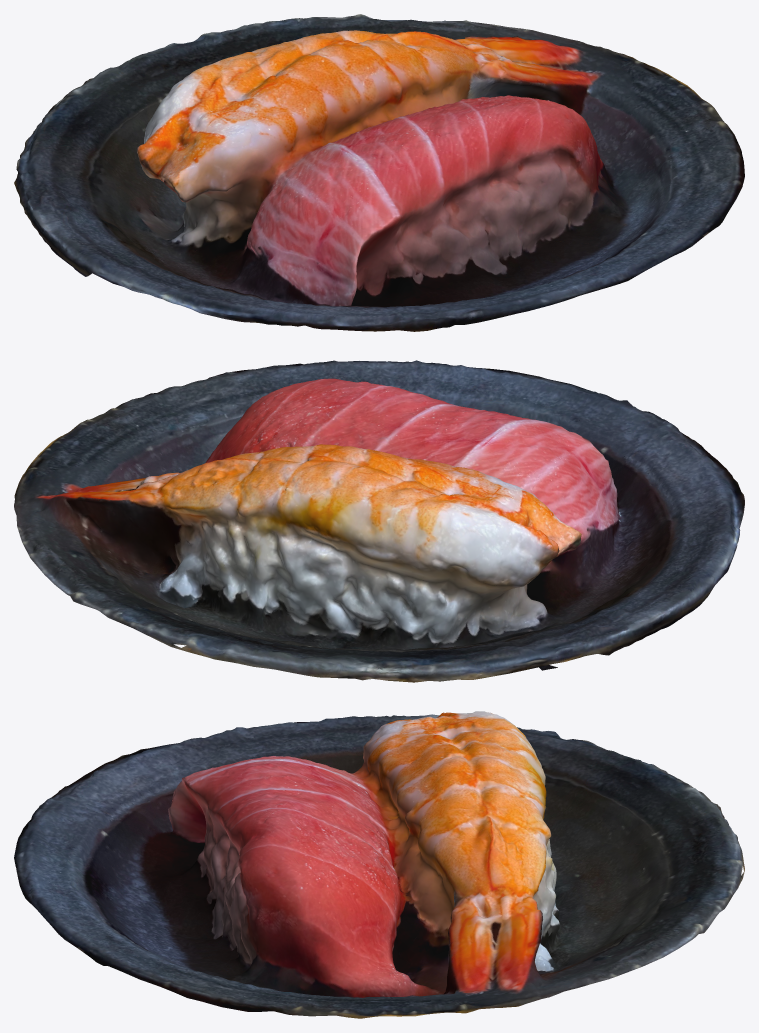
File: sushi.glb
3 renders of one model, top to bottom at view 1: azimuth 30°, elevation 25°; view 2: azimuth 150°, elevation 25°; view 3: azimuth 270°, elevation 25°, orthographic.
Parts seen in each view (by area): view 1: FoodAR; view 2: FoodAR; view 3: FoodAR.
Part boxes in pixels (x1,y1,x2,y2): FoodAR: (14, 14, 744, 331); FoodAR: (14, 360, 744, 682); FoodAR: (14, 711, 744, 1018).
Bounding box in the file's own units: 0.1149 × 0.0336 × 0.115.
Materials: 1 (1 with a texture image).
